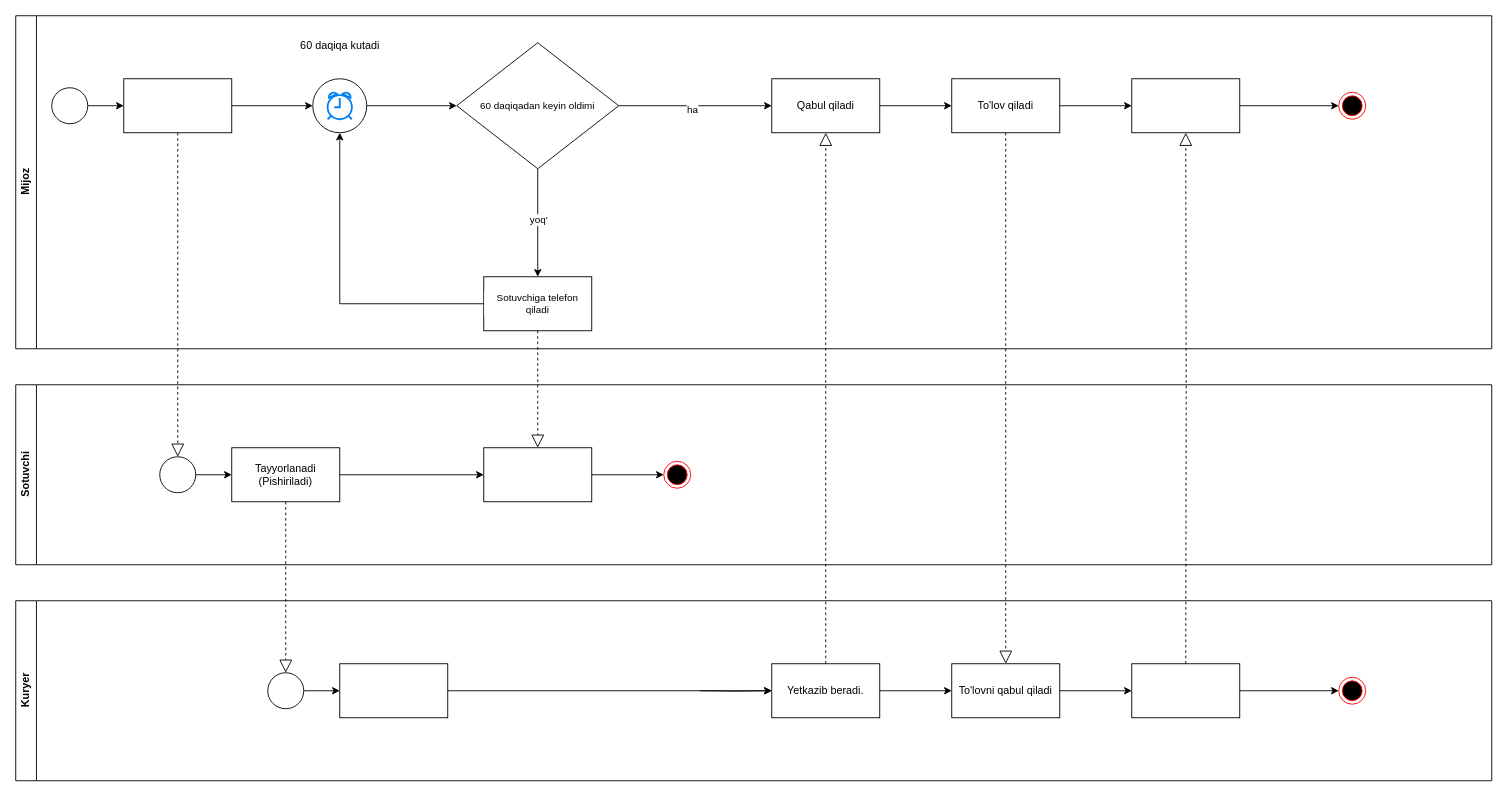
Some shapes in this 1508 by 797 pixel diagram are drawn without their labels. Each missing label, with the box of its shape:
Kvitansiya beradi: (1131, 663, 1240, 718)
Kvitansiyani qabul qiladi: (1131, 78, 1240, 133)
Mijoz buyurtmani yetkazib berishingizni kutyapti: (483, 447, 592, 502)
Mijoz tanlaydi va buyurtma beradi: (123, 78, 232, 133)
Pitsani qabul qiladi.: (339, 663, 448, 718)
